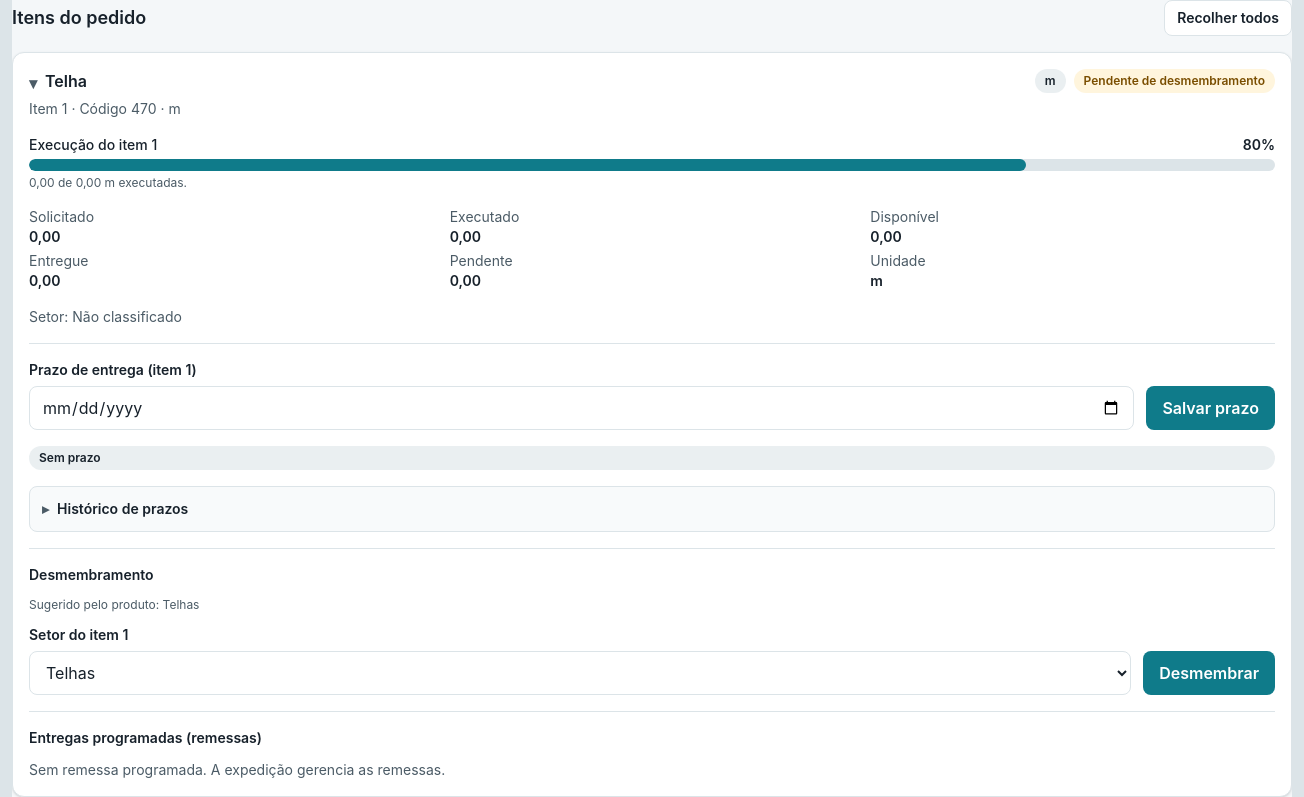
Scenario: PedidoVendedorPage › aceita o setor sugerido sem alterar o seletor e exibe o setor persistido
(page scrolled)
Expected: the dropdown labelled "Setor do item 1" shows "Telhas", top-left (29, 651), bottom-right (1131, 695)
Click the button with aria-label "Classificar item 1" at (1209, 673), box top-left (1143, 651), bottom-right (1275, 695)
(page scrolled)
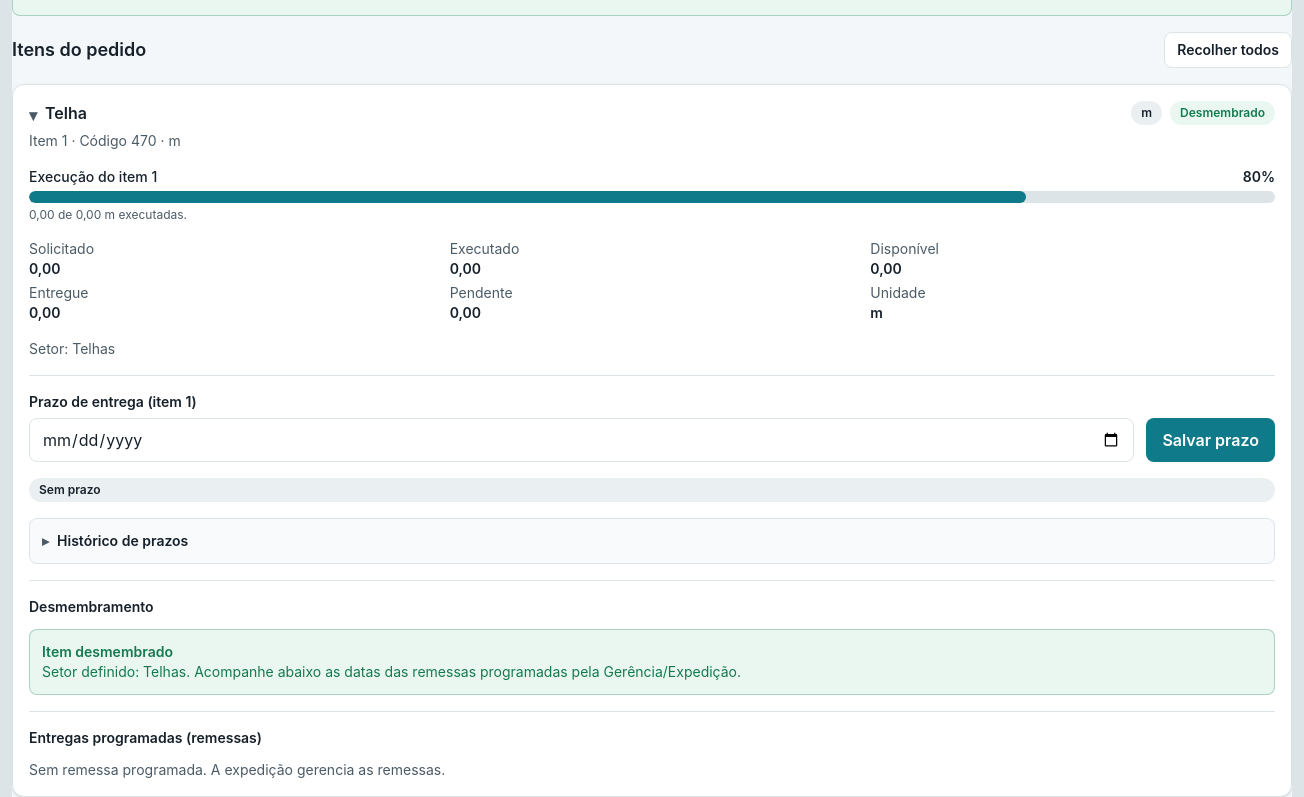
Now the text "Setor definido: Telhas" is shown, box top-left (42, 662), bottom-right (741, 682)
